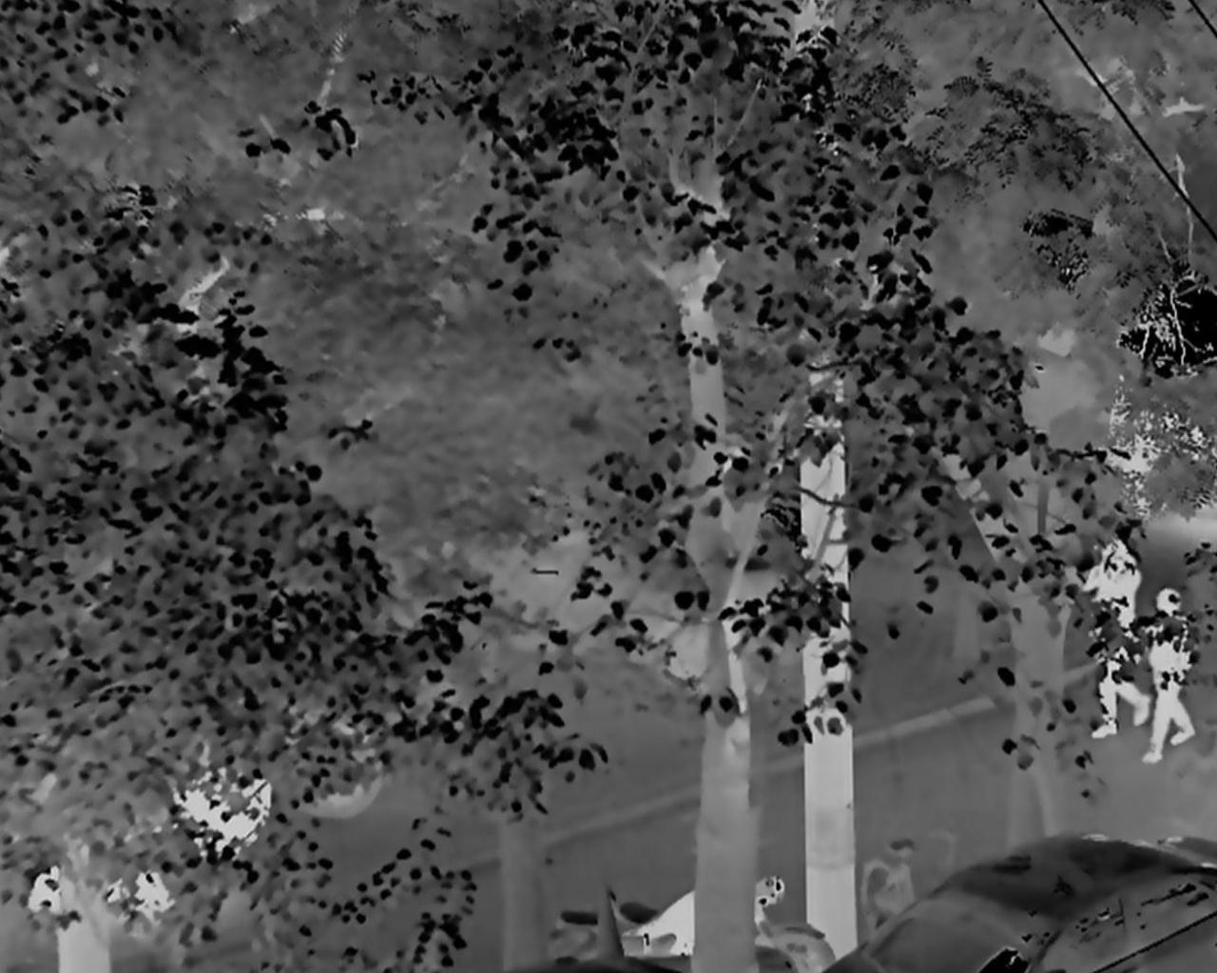person: (1079, 538, 1150, 738), (1141, 585, 1196, 763)
